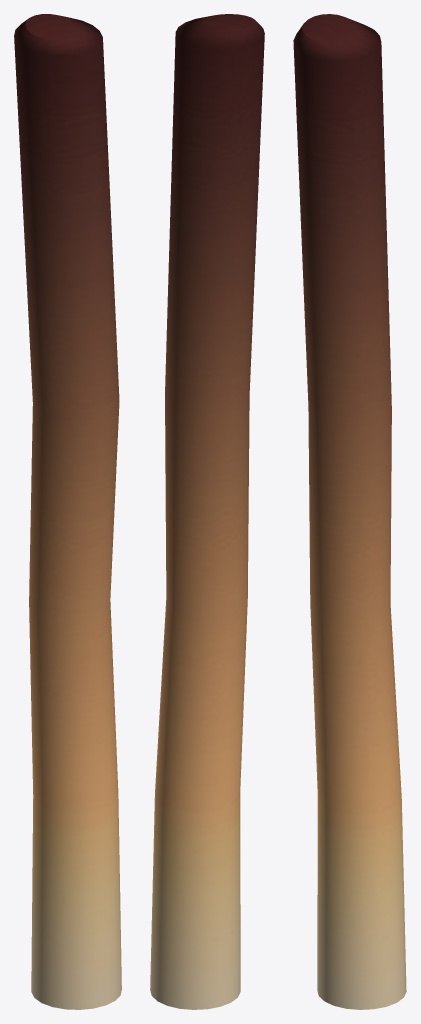
File: WoodPostA.fbx
3 renders of one model, left to right at view 1: azimuth 30°, elevation 25°; view 2: azimuth 150°, elevation 25°; view 3: azimuth 330°, elevation 25°, orthographic.
Parts seen in each view (by area): view 1: pCylinder17; view 2: pCylinder17; view 3: pCylinder17.
Part boxes in pixels (bbox=[...]): pCylinder17: bbox=[14, 14, 121, 1009]; pCylinder17: bbox=[150, 14, 264, 1009]; pCylinder17: bbox=[293, 14, 406, 1009].
Bounding box in the file's own units: 38.9 × 369 × 34.04.
1 material, 1 textured.
